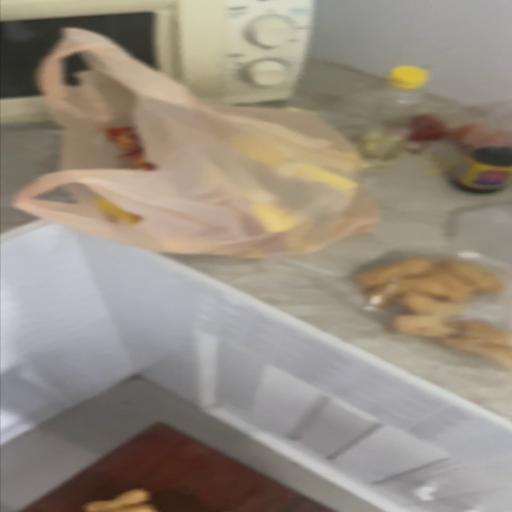street_golden_defect: (15, 26, 371, 260)
